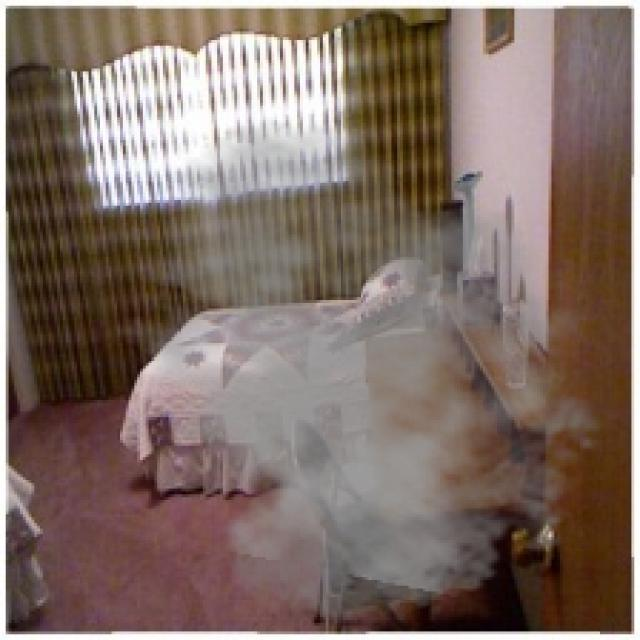Smoke: (94, 117, 623, 632)
